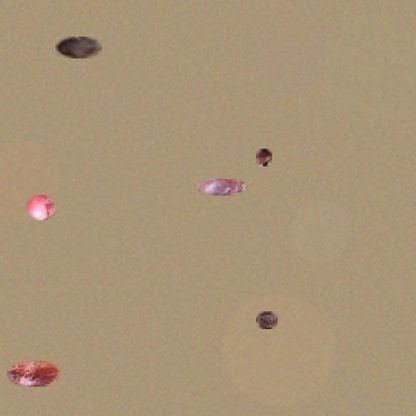damaged: (194, 179, 249, 196)
healthy: (26, 195, 55, 220)
rotten: (7, 361, 61, 387), (55, 37, 102, 58), (256, 311, 278, 329)
sprouted: (256, 149, 272, 167)
